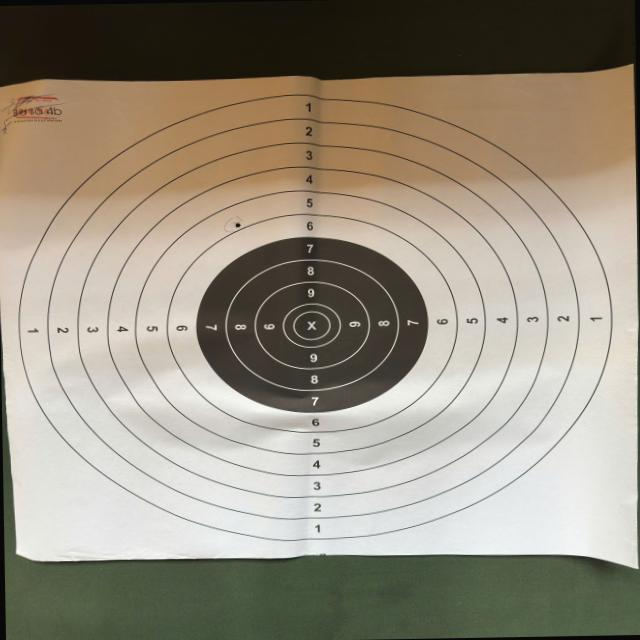bullet: (234, 221, 242, 229), (304, 100, 312, 108)
target: (0, 67, 632, 561)
